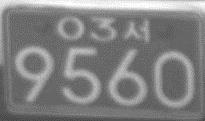0: (153, 49, 194, 109), (57, 14, 84, 41)
3: (89, 15, 116, 42)
5: (61, 46, 102, 104)
6: (106, 47, 148, 107)
9: (13, 44, 54, 103)
서: (124, 17, 151, 43)
